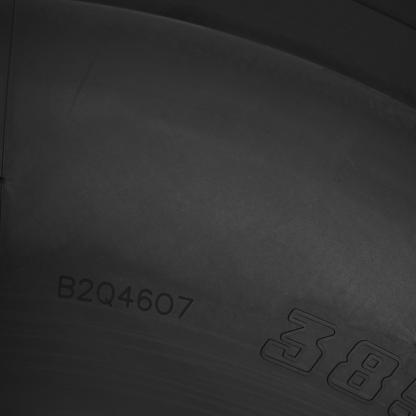ocr: (54, 272, 194, 322)
